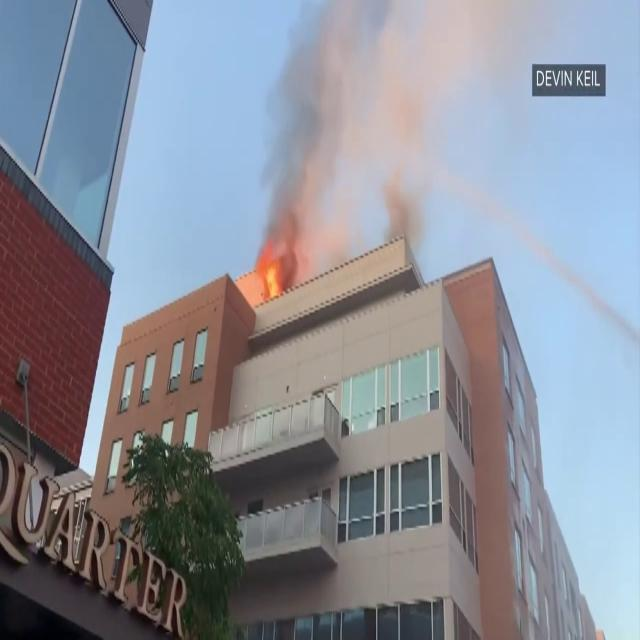Fire: (248, 250, 284, 300)
Smoke: (254, 0, 454, 269)
